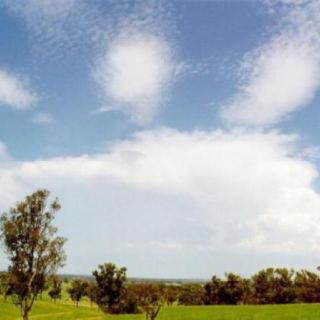Cumulonimbus: (0, 0, 320, 282)
